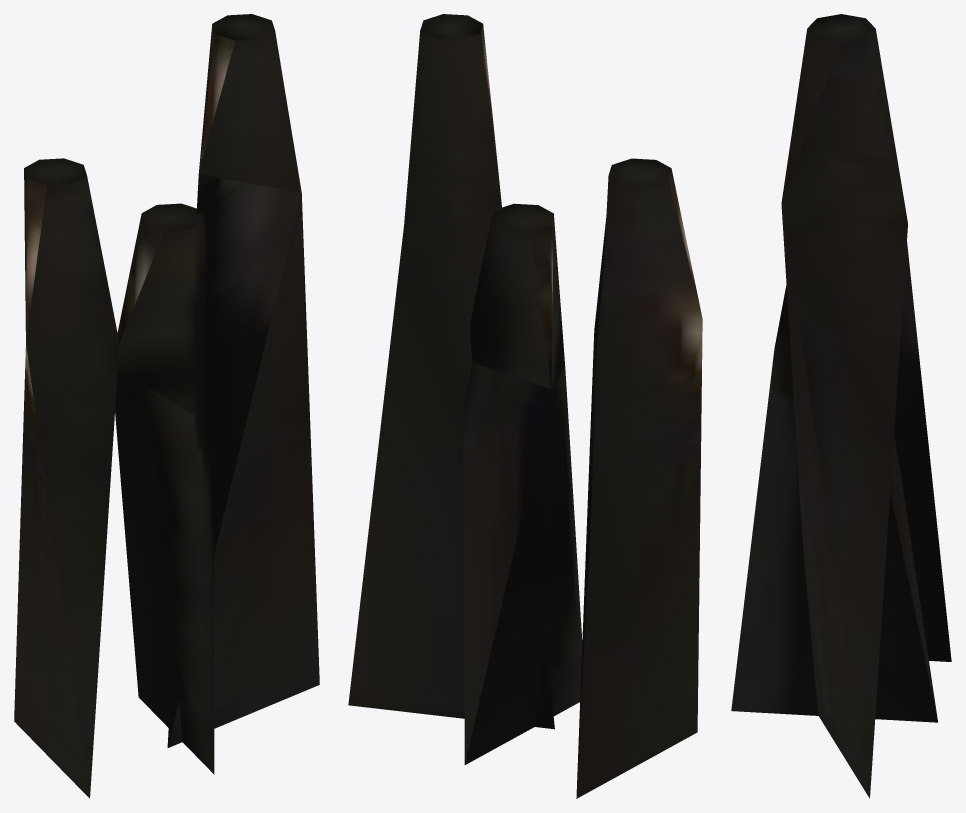
The model's file is cantina_prop_jar_C_medium_lod1.glb.
3 views of the same model, side by side, from view 1: azimuth 30°, elevation 25°; view 2: azimuth 150°, elevation 25°; view 3: azimuth 270°, elevation 25° (orthographic). The views are drawn at different scales.
Visible parts, largest first — view 1: cantina_prop_jar_C_medium; view 2: cantina_prop_jar_C_medium; view 3: cantina_prop_jar_C_medium.
Part boxes in pixels (<box>): cantina_prop_jar_C_medium: <box>14,14,319,798</box>; cantina_prop_jar_C_medium: <box>348,14,702,798</box>; cantina_prop_jar_C_medium: <box>731,14,951,798</box>.
Bounding box in the file's own units: 0.1377 × 0.28 × 0.0772.
1 material, 1 textured.
